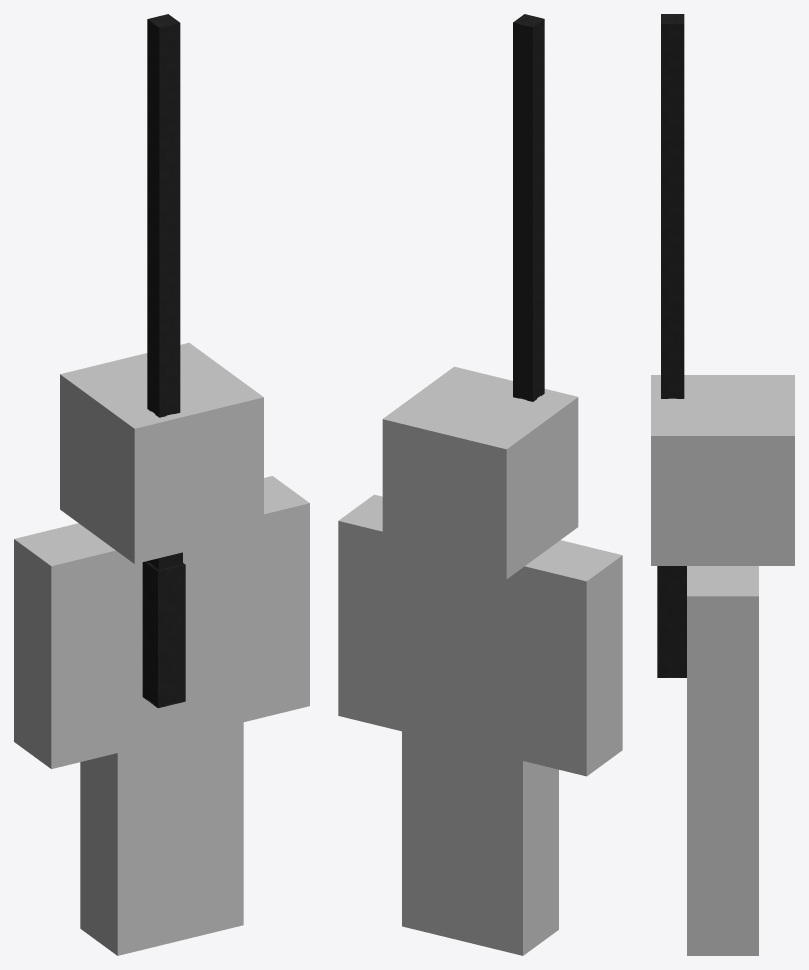
File: contributor_wings.obj
The picture shows the model from 3 angles, left to right: view 1: azimuth 30°, elevation 25°; view 2: azimuth 150°, elevation 25°; view 3: azimuth 270°, elevation 25°; orthographic projection. The views are drawn at different scales.
Parts seen in each view (by area): view 1: cube, f1_bone_shell, f1_bone, hum_bone_shell, hum_bone; view 2: cube, f1_bone_shell, f1_bone; view 3: cube, f1_bone_shell, f1_bone, hum_bone_shell, hum_bone.
Part boxes in pixels (bbox=[...]): cube: bbox=[14, 342, 309, 955]; f1_bone_shell: bbox=[147, 14, 180, 417]; f1_bone: bbox=[151, 22, 173, 415]; hum_bone_shell: bbox=[142, 561, 185, 708]; hum_bone: bbox=[147, 563, 176, 704]; cube: bbox=[338, 366, 622, 955]; f1_bone_shell: bbox=[513, 14, 544, 401]; f1_bone: bbox=[519, 22, 540, 399]; cube: bbox=[651, 375, 794, 955]; f1_bone_shell: bbox=[661, 14, 684, 398]; f1_bone: bbox=[668, 24, 676, 398]; hum_bone_shell: bbox=[657, 566, 686, 677]; hum_bone: bbox=[667, 566, 678, 676].
Bounding box in the file's own units: 1 × 3.44 × 0.5.
Materials: 2 (1 with a texture image).
